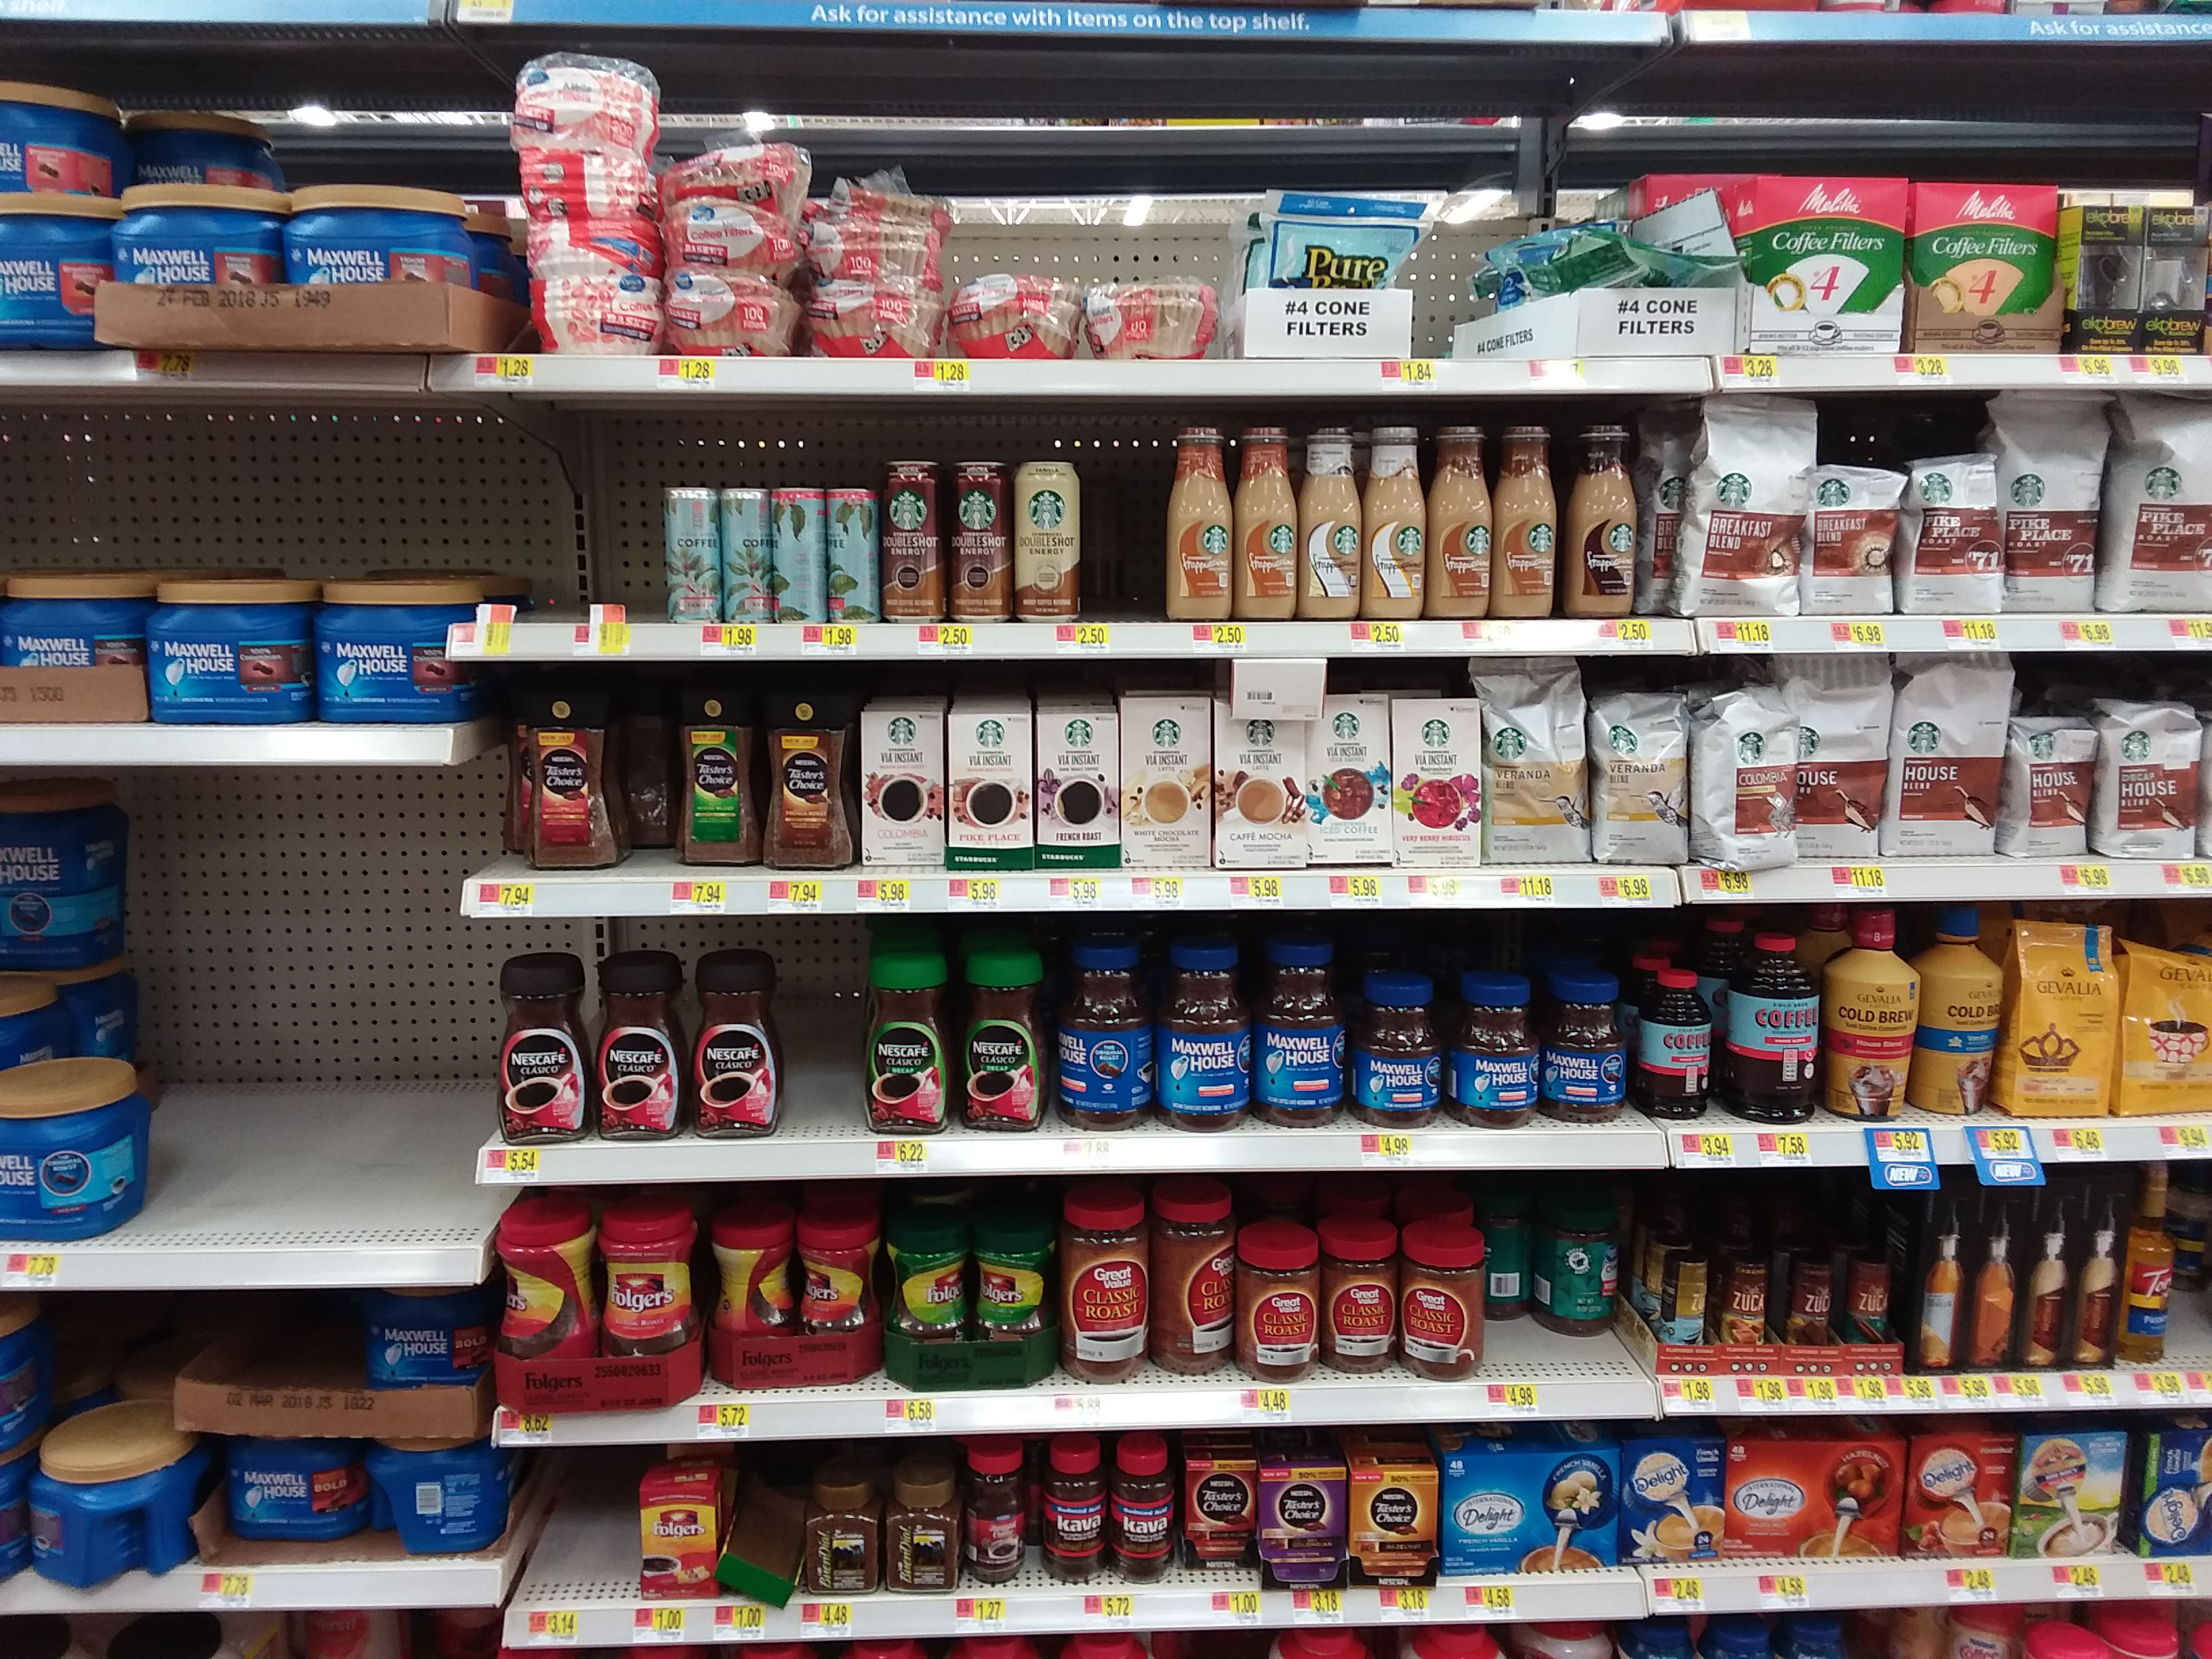product: (1665, 396, 1818, 615), (1486, 230, 1737, 357), (1738, 174, 1909, 352), (286, 183, 462, 352), (113, 181, 279, 343), (2, 1053, 143, 1241), (1251, 200, 1416, 359), (1911, 179, 2060, 352), (152, 572, 317, 721), (30, 1436, 192, 1584), (2, 777, 122, 976), (2106, 383, 2212, 606), (1893, 652, 2001, 861), (2001, 389, 2102, 612), (320, 573, 470, 723), (2005, 915, 2111, 1122), (7, 573, 152, 723), (1484, 660, 1588, 864), (590, 1206, 691, 1415), (1442, 1453, 1620, 1572), (493, 1197, 589, 1412), (1822, 904, 1912, 1126), (1733, 1436, 1898, 1556), (1249, 931, 1346, 1133), (2092, 701, 2212, 863), (1712, 938, 1817, 1122), (1691, 688, 1797, 870), (517, 694, 625, 871), (1059, 938, 1155, 1134), (1918, 906, 2001, 1124), (491, 953, 589, 1140), (1799, 657, 1888, 859), (1155, 939, 1247, 1131), (594, 951, 685, 1147), (1148, 1190, 1237, 1389), (1440, 958, 1543, 1129), (688, 948, 779, 1140), (1592, 687, 1688, 864), (961, 946, 1052, 1133), (672, 680, 761, 870), (763, 690, 855, 871), (864, 953, 953, 1138), (2120, 938, 2212, 1114), (1122, 695, 1214, 870), (223, 1434, 371, 1542), (1390, 697, 1480, 871), (876, 1208, 967, 1382), (1061, 1201, 1146, 1385), (1566, 420, 1642, 622), (1346, 964, 1435, 1136), (787, 1208, 873, 1387), (374, 1425, 495, 1553), (702, 1206, 787, 1380), (2017, 1427, 2130, 1558), (946, 704, 1035, 870), (1622, 1436, 1730, 1572), (1904, 457, 1998, 612), (859, 702, 944, 870), (1169, 420, 1238, 622), (1902, 1434, 2013, 1558), (1214, 721, 1306, 870), (1036, 709, 1120, 871), (1399, 1223, 1486, 1378), (1310, 690, 1386, 866), (1491, 422, 1559, 619), (352, 1283, 477, 1389), (507, 61, 657, 148), (970, 1220, 1052, 1378), (1364, 422, 1428, 622), (1299, 422, 1364, 622), (1634, 958, 1714, 1117), (2067, 185, 2142, 354), (1965, 1178, 2027, 1378), (1547, 969, 1625, 1129), (1533, 1194, 1620, 1337), (1244, 1220, 1320, 1382), (1346, 1464, 1442, 1589), (880, 455, 949, 626), (125, 105, 280, 181), (1318, 1223, 1393, 1382), (2008, 714, 2090, 859), (1010, 457, 1082, 622), (1430, 423, 1489, 620), (2074, 1168, 2132, 1370), (961, 265, 1082, 361), (1818, 464, 1895, 613), (1240, 418, 1296, 622), (2146, 190, 2212, 355), (808, 277, 944, 357), (636, 1478, 723, 1601), (1083, 277, 1216, 357), (1261, 1466, 1346, 1589), (1912, 1182, 1965, 1378), (949, 455, 1010, 622), (881, 1467, 961, 1595), (1040, 1434, 1106, 1584), (660, 279, 794, 352), (529, 279, 657, 355), (1108, 1431, 1170, 1584), (655, 136, 812, 197), (801, 1469, 878, 1593), (2027, 1175, 2073, 1373), (660, 481, 721, 622), (514, 153, 644, 218), (665, 202, 789, 270), (1186, 1457, 1259, 1570), (2134, 1159, 2174, 1364), (968, 1443, 1024, 1584), (827, 484, 880, 626), (773, 483, 826, 624), (810, 213, 930, 274), (721, 490, 773, 626), (529, 220, 653, 275), (1658, 1246, 1714, 1364), (1719, 1253, 1775, 1368), (1489, 1188, 1529, 1321), (1789, 1255, 1834, 1361), (1848, 1251, 1888, 1363)
